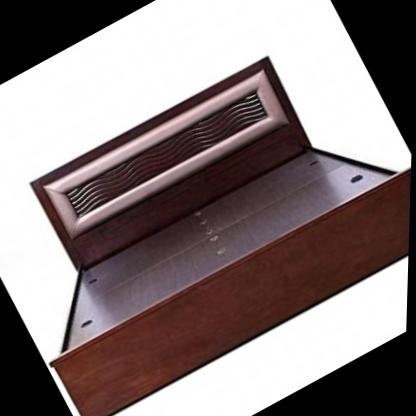Bed: (0, 15, 416, 416)
